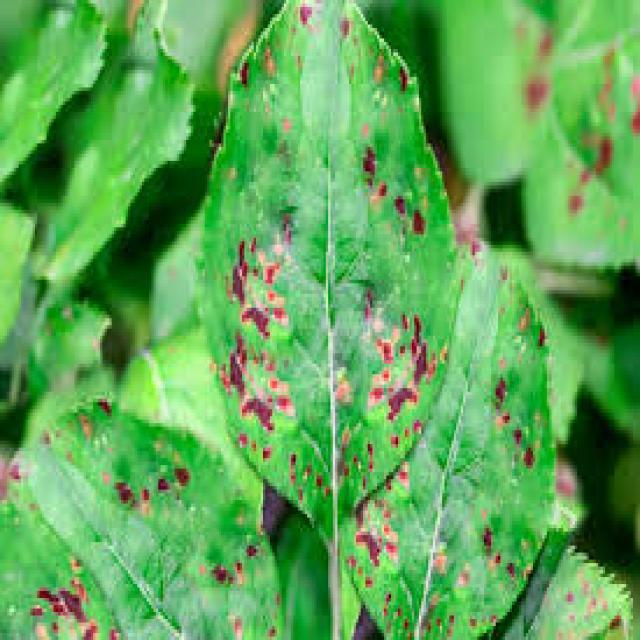Bercak Daun Serkospora: (196, 0, 462, 543)
